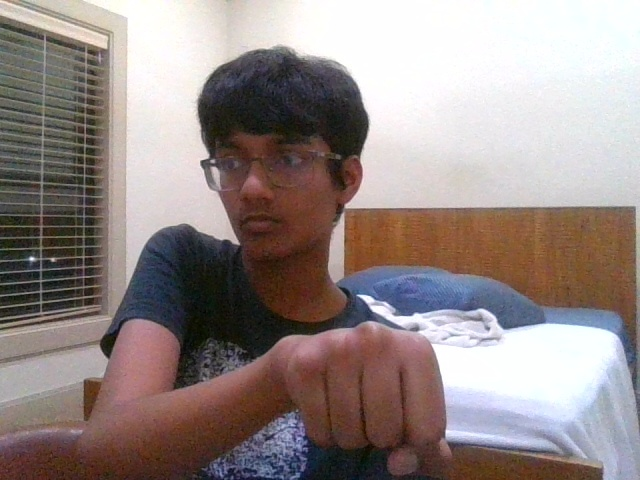yes: (284, 320, 458, 476)
